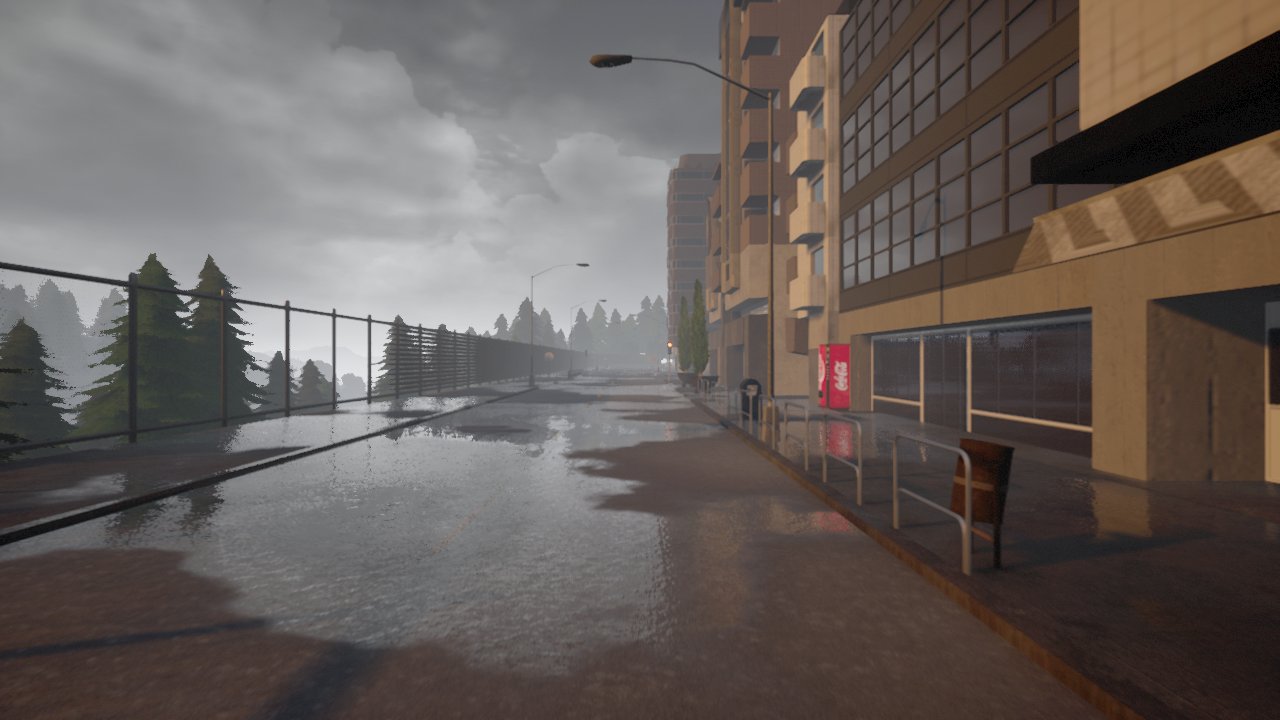red: (667, 342, 672, 355)
